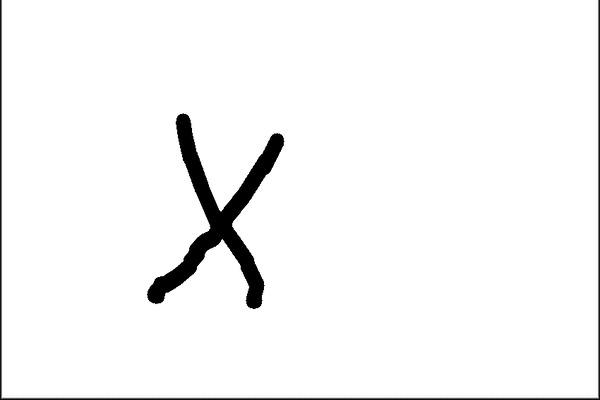X: (126, 108, 303, 323)
